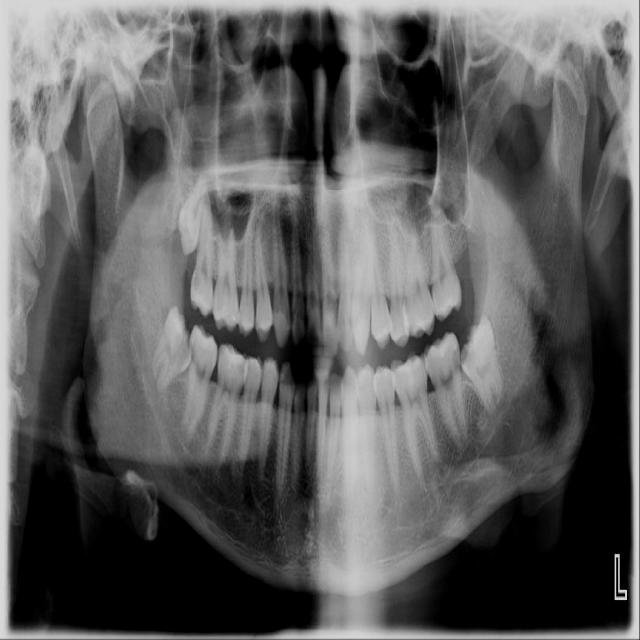Caries: (453, 349, 461, 372), (460, 346, 469, 365)
impacted tooth: (462, 316, 506, 414), (150, 304, 191, 398), (180, 168, 209, 255)
